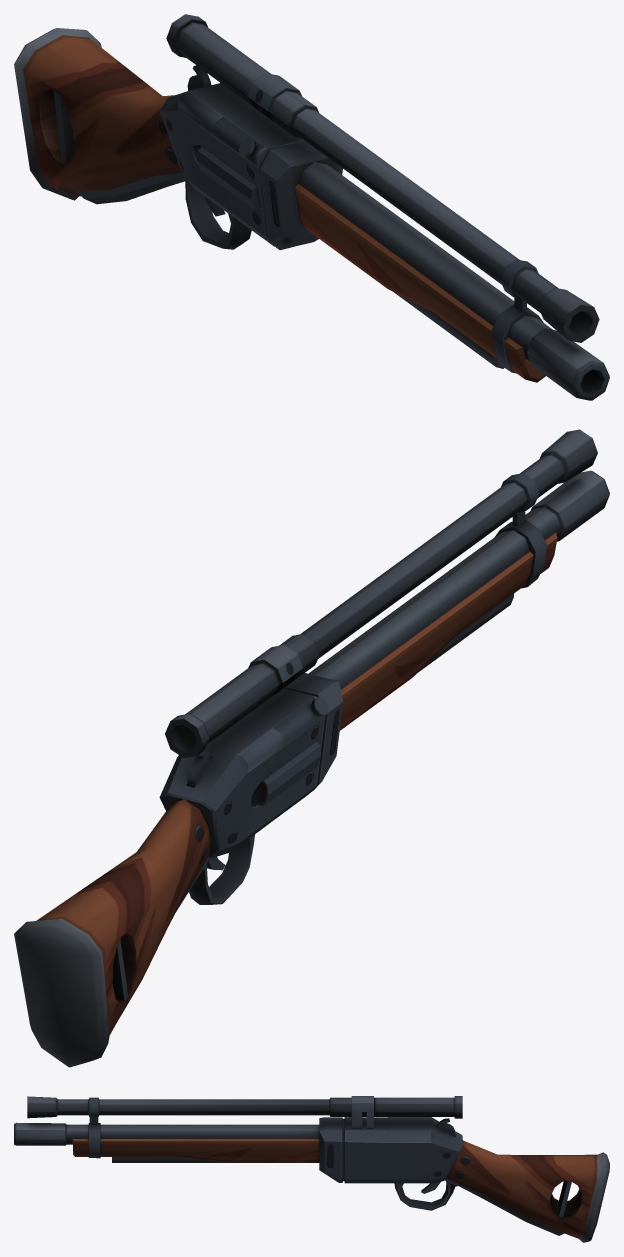
The model's file is gun_d02.fbx.
3 views of the same model, one above another, from view 1: azimuth 30°, elevation 25°; view 2: azimuth 150°, elevation 25°; view 3: azimuth 270°, elevation 25° (orthographic). The views are drawn at different scales.
Parts seen in each view (by area): view 1: gun_d02; view 2: gun_d02; view 3: gun_d02.
Part boxes in pixels (x1,y1,x2,y2): gun_d02: (14,14,609,400); gun_d02: (14,429,609,1067); gun_d02: (14,1096,609,1242).
Bounding box in the file's own units: 11.72 × 127 × 34.46.
